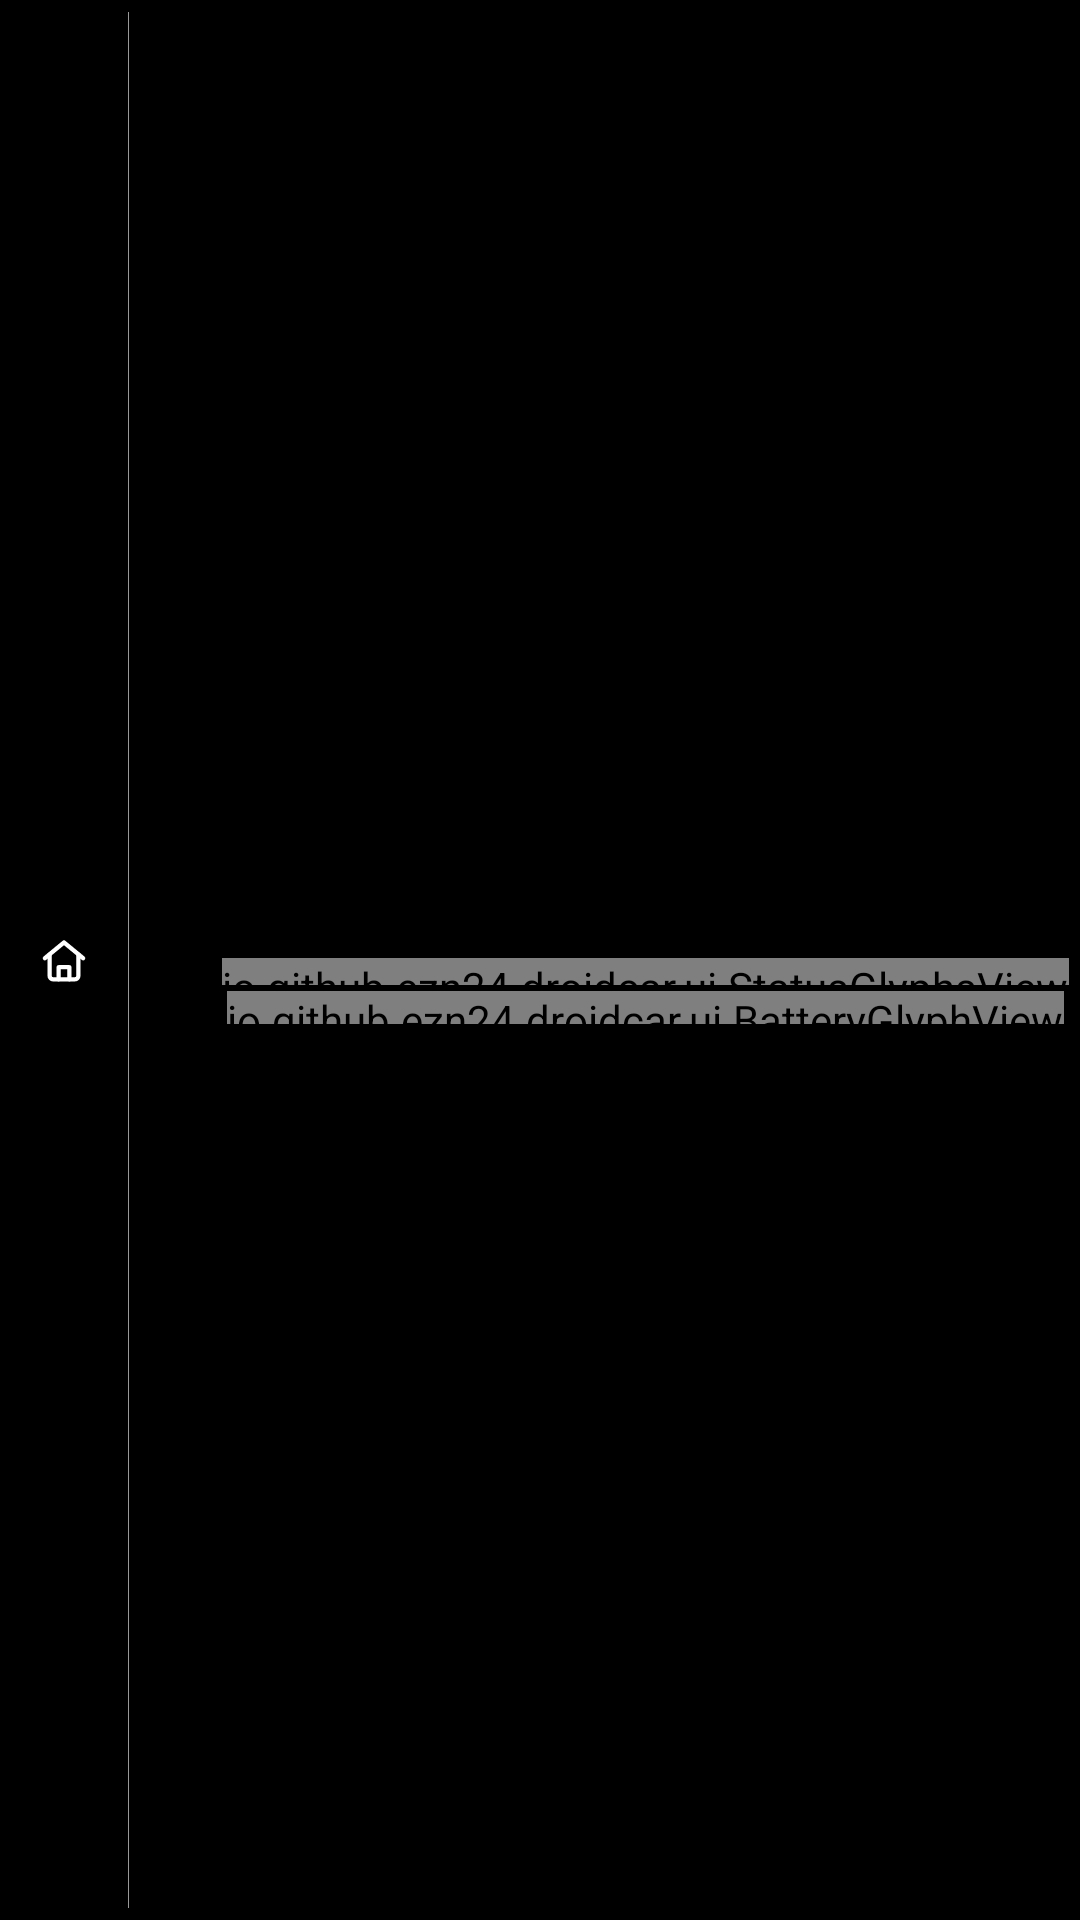

Locate icon controls on the screen. Image size 1080x1920, boxes as Rect(x1, y1, x2, y2).
回到桌面: Rect(42, 940, 86, 982)
